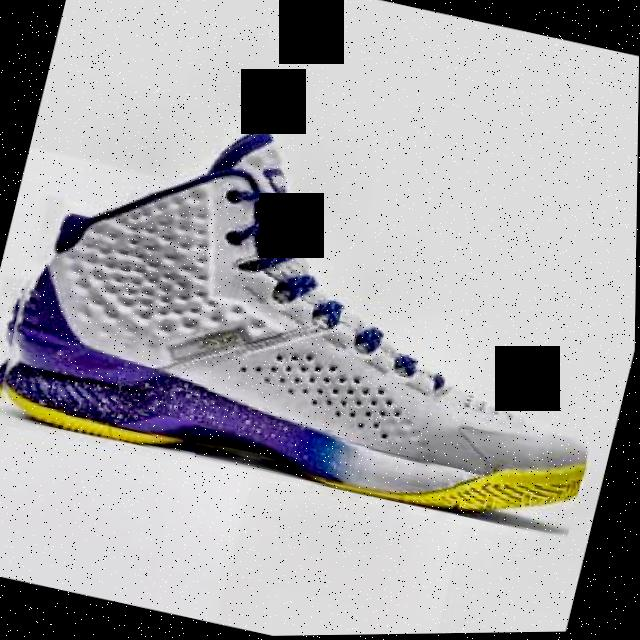shoe: (0, 72, 639, 547)
